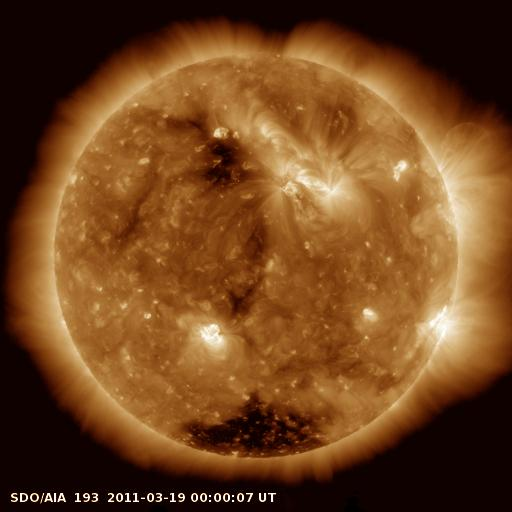coronal_hole: (182, 390, 346, 462), (195, 129, 259, 192)
